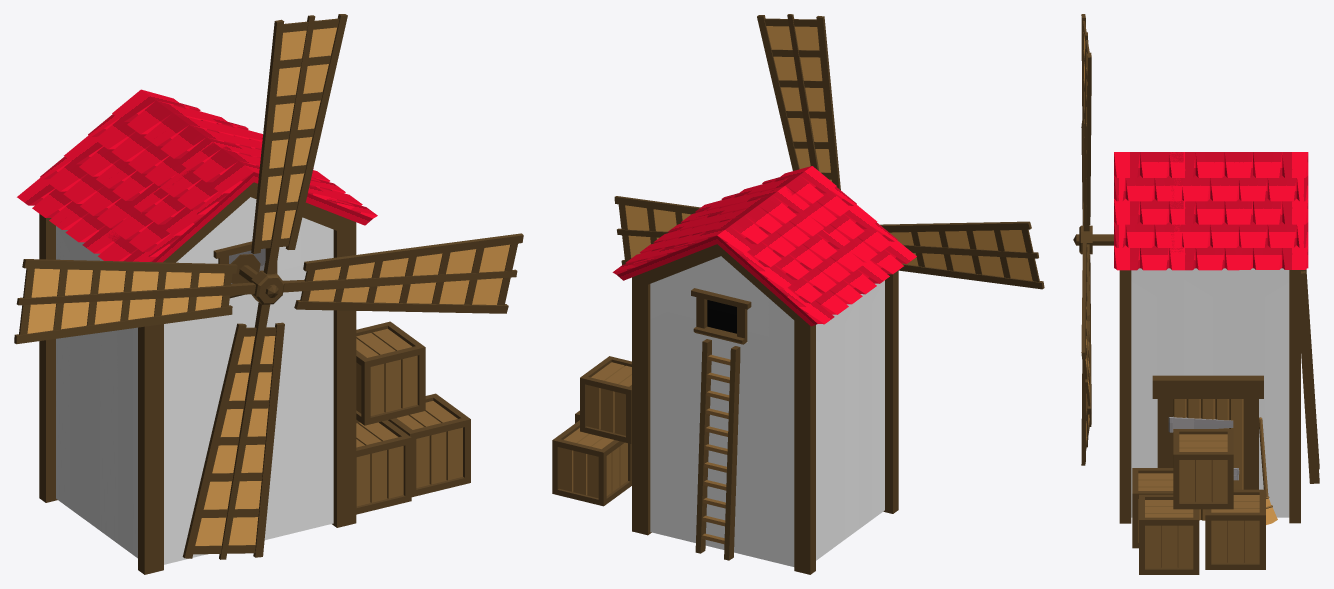
The model's file is windmill.obj.
The picture shows the model from 3 angles, left to right: view 1: azimuth 30°, elevation 25°; view 2: azimuth 150°, elevation 25°; view 3: azimuth 270°, elevation 25°; orthographic projection. The views are drawn at different scales.
Parts seen in each view (by area): view 1: windmill.001, object5.001_object5.001, object5.004_object5.001, object5.003_object5.001, object3.001_object3.001, Caja_Cerrada.003_object7.003_Caja_Cerrada.003_object7.001, Caja_Cerrada.003_object7.002_Caja_Cerrada.003_object7.004, Caja_Cerrada.003_object7.004_Caja_Cerrada.003_object7.005, object3.003_object3.001; view 2: object5.004_object5.001, windmill.001, object5.003_object5.001, object5.001_object5.001, object3.003_object3.001, Escalera_object1.001, Caja_Cerrada.003_object7.001_Caja_Cerrada.003_object7.003, Caja_Cerrada.003_object7.003_Caja_Cerrada.003_object7.001, object3.001_object3.001, object2.002_object2.001; view 3: object5.004_object5.001, object5.001_object5.001, object5.003_object5.001, object1.002_object1.001, Caja_Cerrada.003_object7.003_Caja_Cerrada.003_object7.001, windmill.001, Caja_Cerrada.003_object7.002_Caja_Cerrada.003_object7.004, Caja_Cerrada.003_object7.001_Caja_Cerrada.003_object7.003, object3.001_object3.001, object3.003_object3.001, object4.001_object4.001, Escalera_object1.001 (+3 smaller).
Part boxes in pixels (x1,y1,x2,y2): windmill.001: [14, 14, 523, 559]; object5.001_object5.001: [88, 142, 377, 564]; object5.004_object5.001: [17, 89, 262, 519]; object5.003_object5.001: [56, 119, 344, 543]; object3.001_object3.001: [138, 182, 356, 574]; Caja_Cerrada.003_object7.003_Caja_Cerrada.003_object7.001: [356, 321, 425, 425]; Caja_Cerrada.003_object7.002_Caja_Cerrada.003_object7.004: [388, 393, 470, 497]; Caja_Cerrada.003_object7.004_Caja_Cerrada.003_object7.005: [356, 420, 411, 514]; object3.003_object3.001: [39, 214, 57, 502]; object5.004_object5.001: [612, 210, 857, 566]; windmill.001: [614, 14, 1044, 289]; object5.003_object5.001: [645, 186, 886, 548]; object5.001_object5.001: [681, 166, 916, 528]; object3.003_object3.001: [632, 244, 815, 574]; Escalera_object1.001: [695, 339, 740, 560]; Caja_Cerrada.003_object7.001_Caja_Cerrada.003_object7.003: [552, 420, 631, 506]; Caja_Cerrada.003_object7.003_Caja_Cerrada.003_object7.001: [580, 356, 631, 443]; object3.001_object3.001: [883, 270, 898, 513]; object2.002_object2.001: [691, 288, 751, 344]; object5.004_object5.001: [1239, 152, 1308, 517]; object5.001_object5.001: [1114, 152, 1183, 517]; object5.003_object5.001: [1170, 152, 1239, 375]; object1.002_object1.001: [1152, 375, 1263, 489]; Caja_Cerrada.003_object7.003_Caja_Cerrada.003_object7.001: [1173, 429, 1233, 509]; windmill.001: [1073, 14, 1113, 465]; Caja_Cerrada.003_object7.002_Caja_Cerrada.003_object7.004: [1139, 494, 1199, 574]; Caja_Cerrada.003_object7.001_Caja_Cerrada.003_object7.003: [1205, 489, 1265, 569]; object3.001_object3.001: [1119, 270, 1131, 523]; object3.003_object3.001: [1289, 270, 1300, 523]; object4.001_object4.001: [1173, 399, 1243, 520]; Escalera_object1.001: [1301, 269, 1319, 483].
Size of the model in its own units: 140 by 143 by 68.29.
5 materials, 5 textured.
